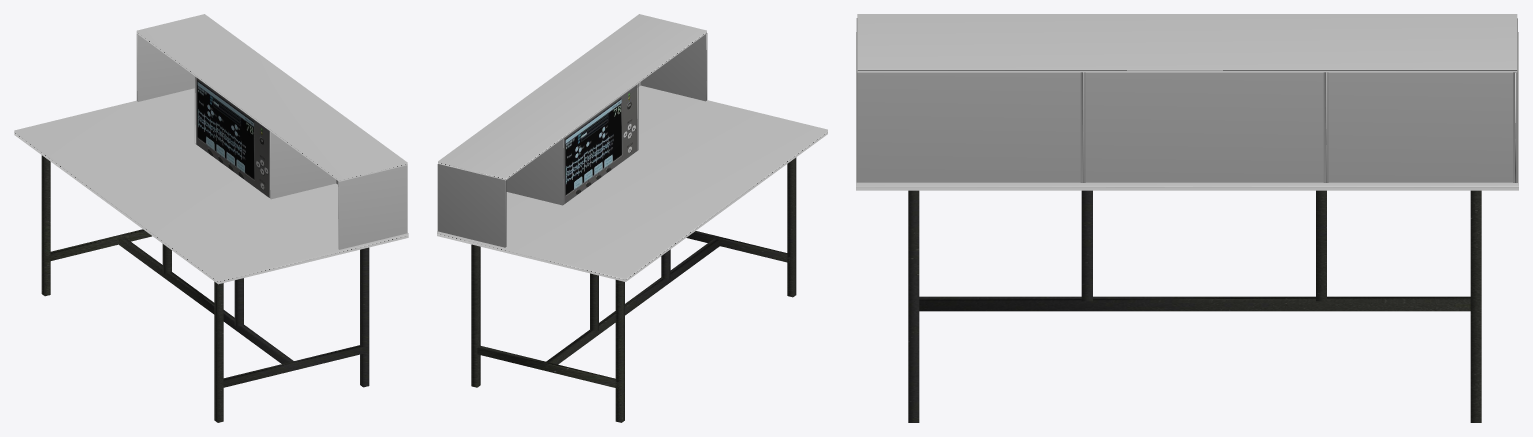
The model's file is taula2.fbx.
3 views of the same model, side by side, from view 1: azimuth 30°, elevation 25°; view 2: azimuth 150°, elevation 25°; view 3: azimuth 270°, elevation 25° (orthographic). The views are drawn at different scales.
Visible parts, largest first — view 1: Cube, Cube_012, Cube_003, Cube_015, Cube_009, Cube_014, Cube_010; view 2: Cube, Cube_012, Cube_003, Cube_015, Cube_010, Cube_009, Cube_013; view 3: Cube_011, Cube_012, Cube_003, Cube, Cube_013, Cube_014, Cube_010.
Part boxes in pixels (x1,y1,x2,y2): Cube: [14, 88, 408, 284]; Cube_012: [136, 14, 407, 181]; Cube_003: [41, 155, 369, 422]; Cube_015: [196, 77, 269, 197]; Cube_009: [338, 165, 407, 249]; Cube_014: [269, 131, 336, 199]; Cube_010: [136, 34, 194, 101]; Cube: [437, 85, 827, 281]; Cube_012: [438, 14, 706, 180]; Cube_003: [471, 157, 796, 422]; Cube_015: [564, 85, 636, 203]; Cube_010: [437, 164, 506, 247]; Cube_009: [640, 33, 707, 101]; Cube_013: [506, 138, 564, 205]; Cube_011: [857, 72, 1512, 182]; Cube_012: [857, 14, 1517, 72]; Cube_003: [908, 190, 1481, 422]; Cube: [856, 32, 1518, 190]; Cube_013: [1323, 72, 1328, 182]; Cube_014: [1080, 72, 1085, 182]; Cube_010: [1513, 18, 1517, 182].
Size of the model in its own units: 2.43 by 2.8 by 4.51.
